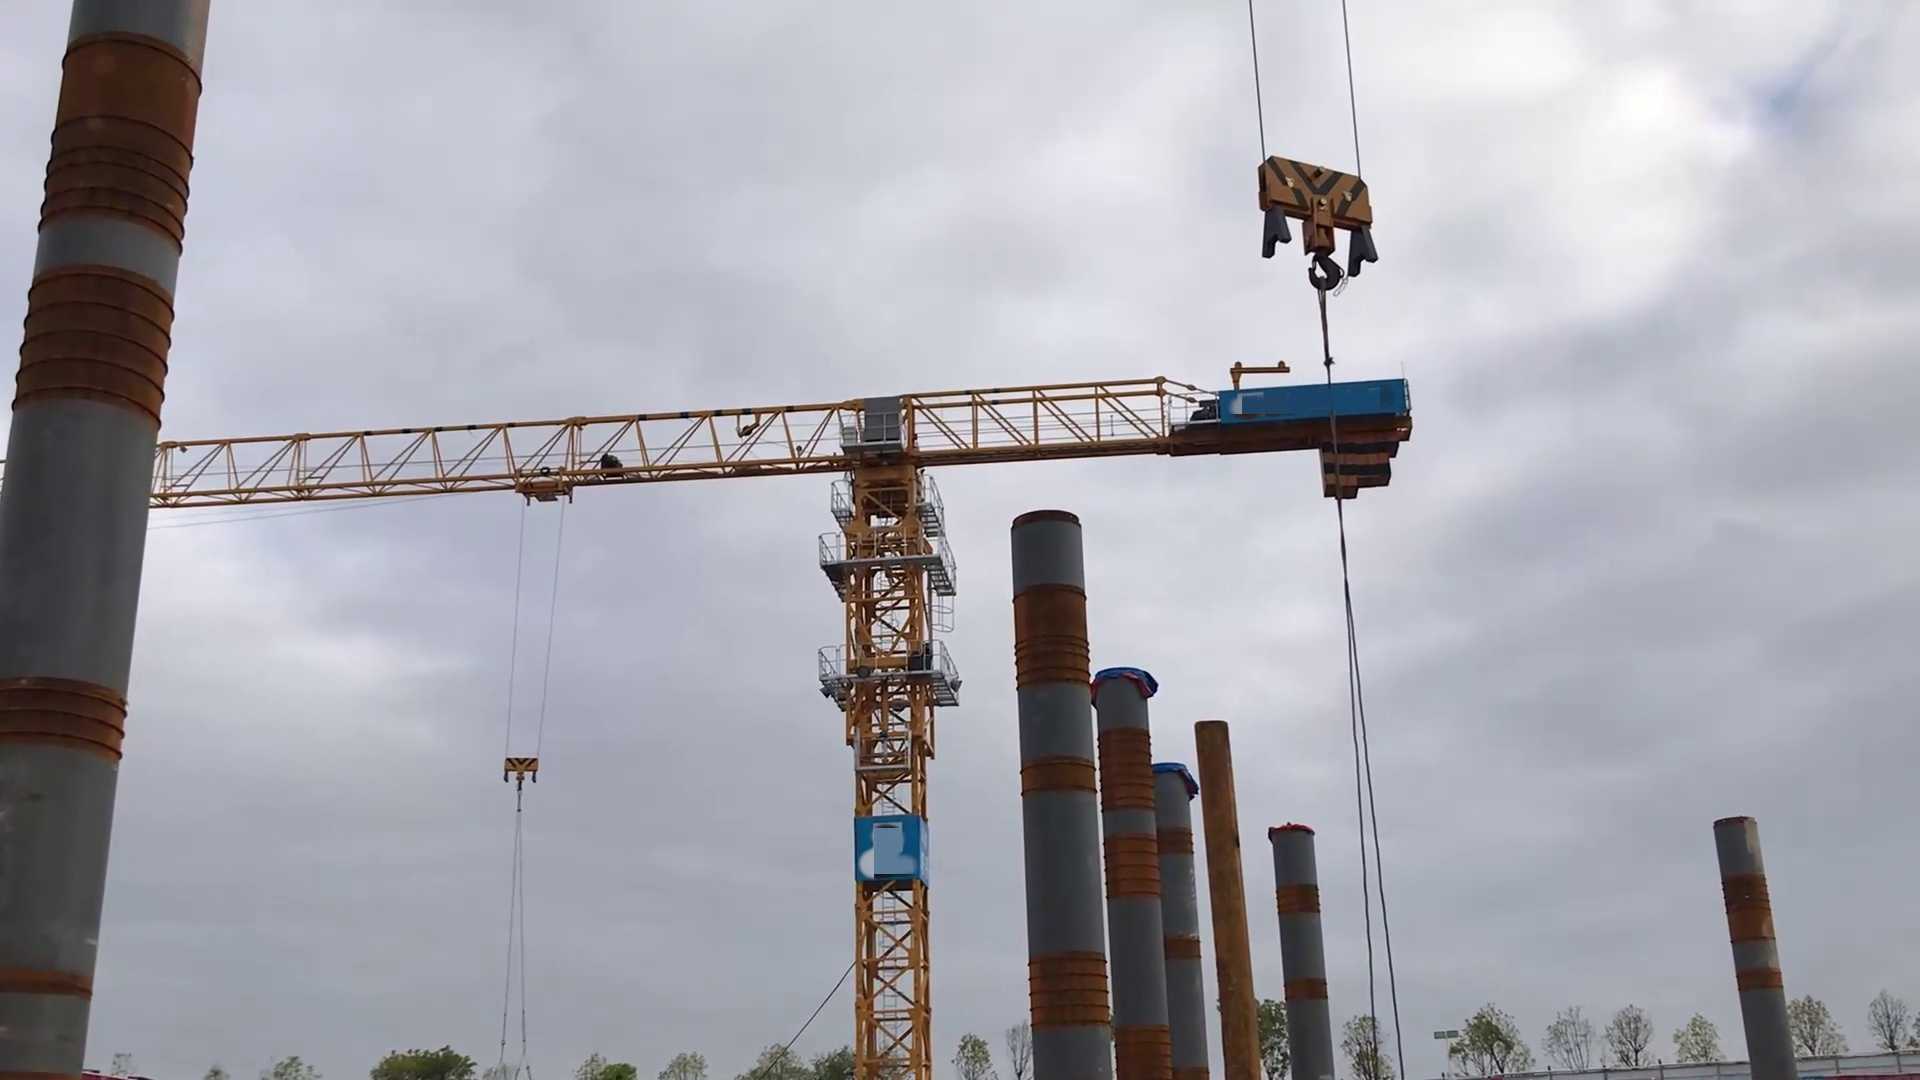hook: (1245, 149, 1389, 301), (498, 752, 543, 794)
